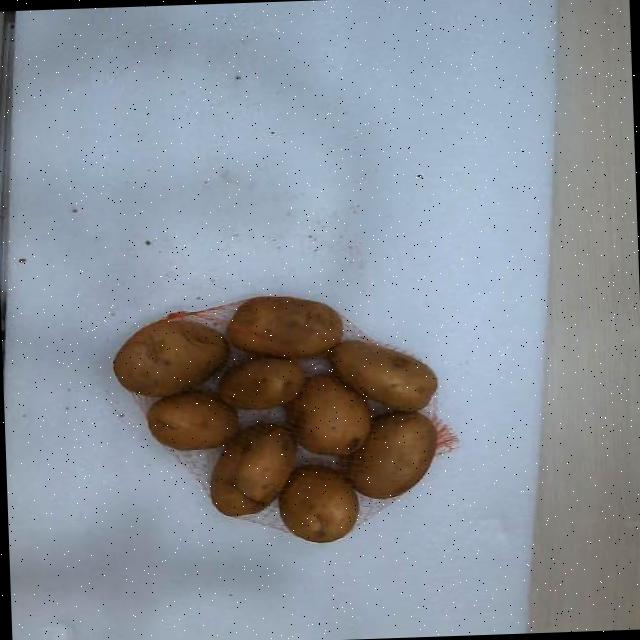potato: (113, 321, 228, 396), (210, 424, 295, 516), (329, 340, 436, 411), (348, 413, 436, 499), (225, 296, 342, 358), (286, 376, 366, 454), (278, 464, 357, 542), (146, 392, 237, 449), (233, 424, 295, 502), (218, 359, 302, 409)
